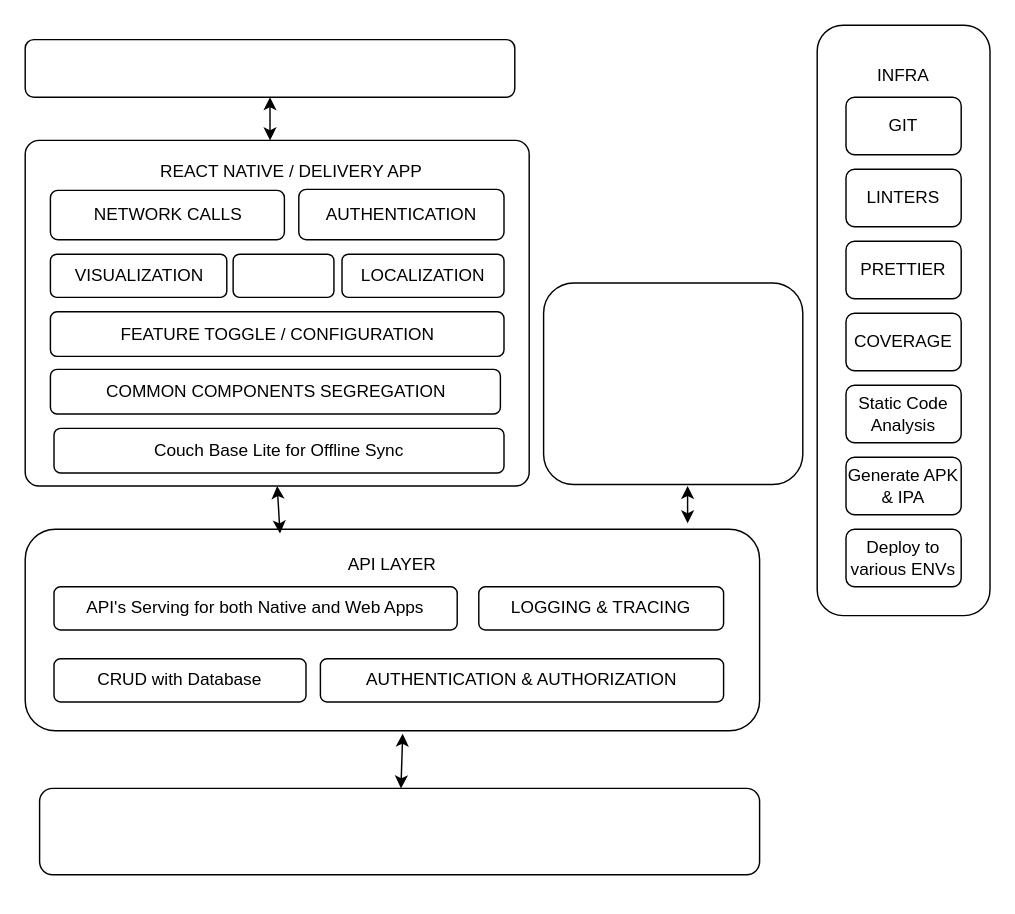
Some shapes in this 1015 by 914 pixel diagram are drawn without their labels. The box of each missing label's shape, as (x1, y1, x2, y2) in pixels:
AUTHENTICATION MODULE: (542, 282, 803, 485)
Devices (Android, iOS): (24, 38, 515, 97)
Sync Gateway: (38, 787, 760, 875)
TESTING: (232, 253, 334, 297)
